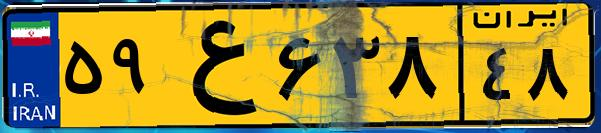3: (330, 28, 385, 110)
4: (475, 38, 525, 113)
5: (57, 26, 110, 100)
6: (270, 28, 330, 110)
8: (385, 28, 445, 110), (525, 38, 570, 115)
9: (110, 28, 158, 98)
ع: (158, 12, 270, 120)
